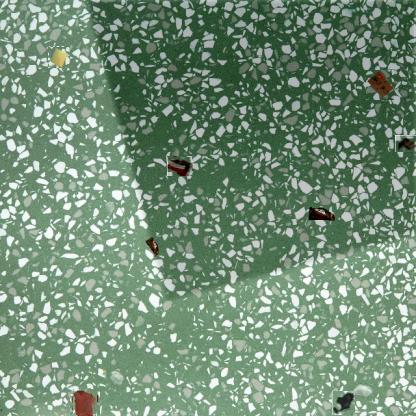dirty: (366, 70, 394, 100), (306, 206, 336, 224), (167, 156, 192, 176), (48, 46, 70, 68), (396, 133, 416, 153), (143, 234, 161, 256)
liquid: (71, 389, 98, 416), (332, 392, 356, 415)
